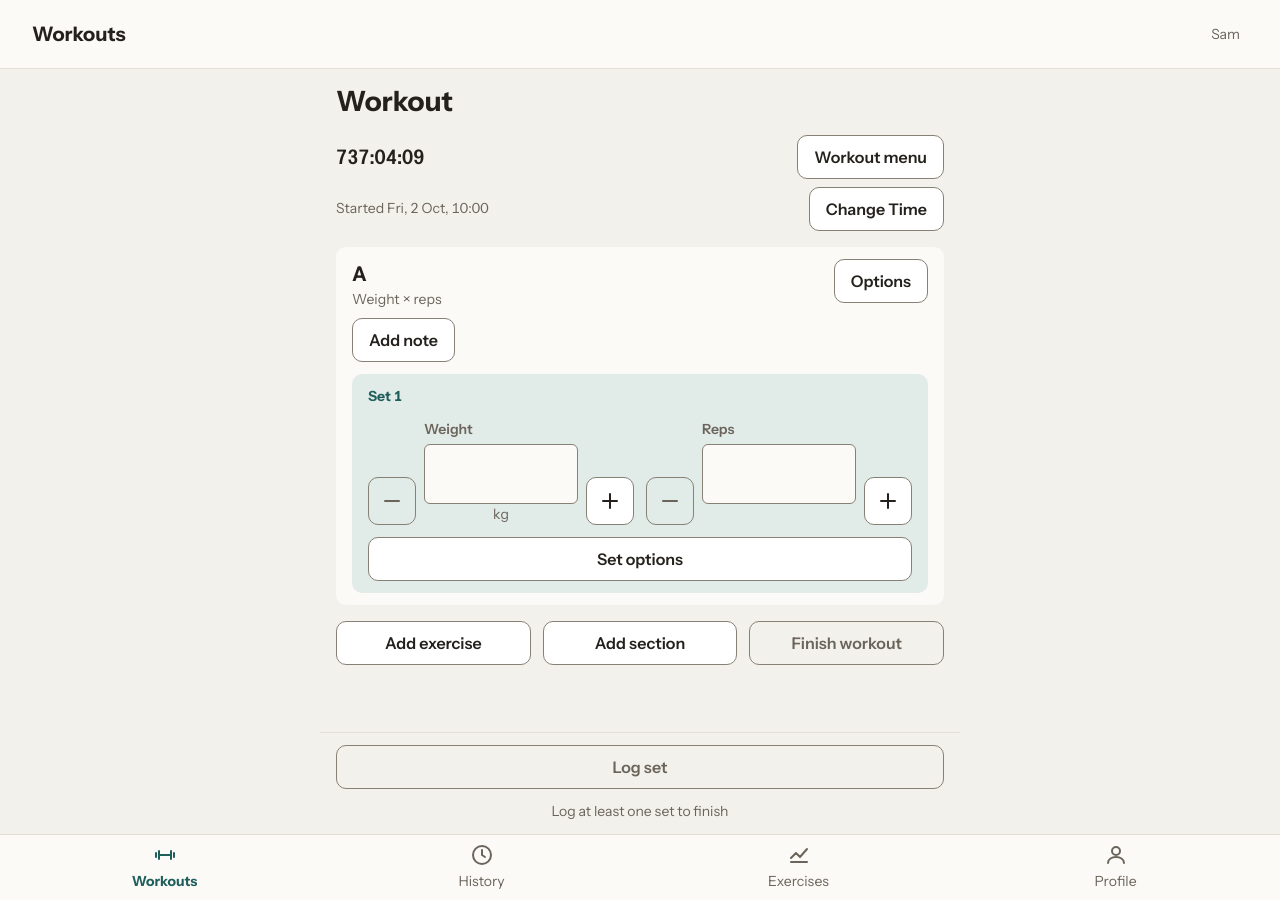
Test case: 17.1 AC13 — adding and removing › a newly added exercise becomes current once it appears
Expected: the heading "Workout" is shown, [336,84,453,118]
Step 1. Click the button "Add exercise" → (433, 643), box [336,621,531,665]
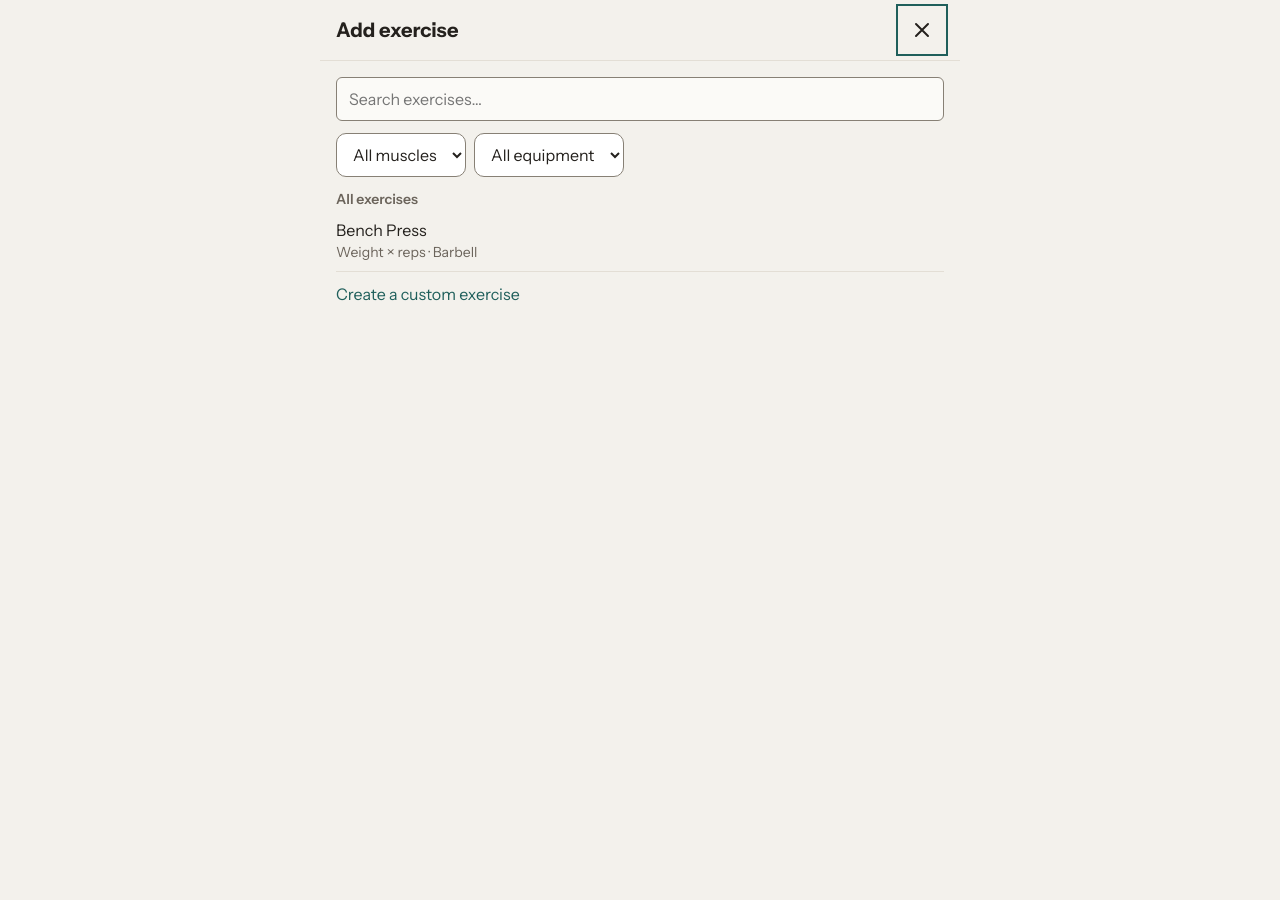
Step 2. Click the button "Bench Press Weight × reps · Barbell" → (381, 230), box [336,210,944,272]
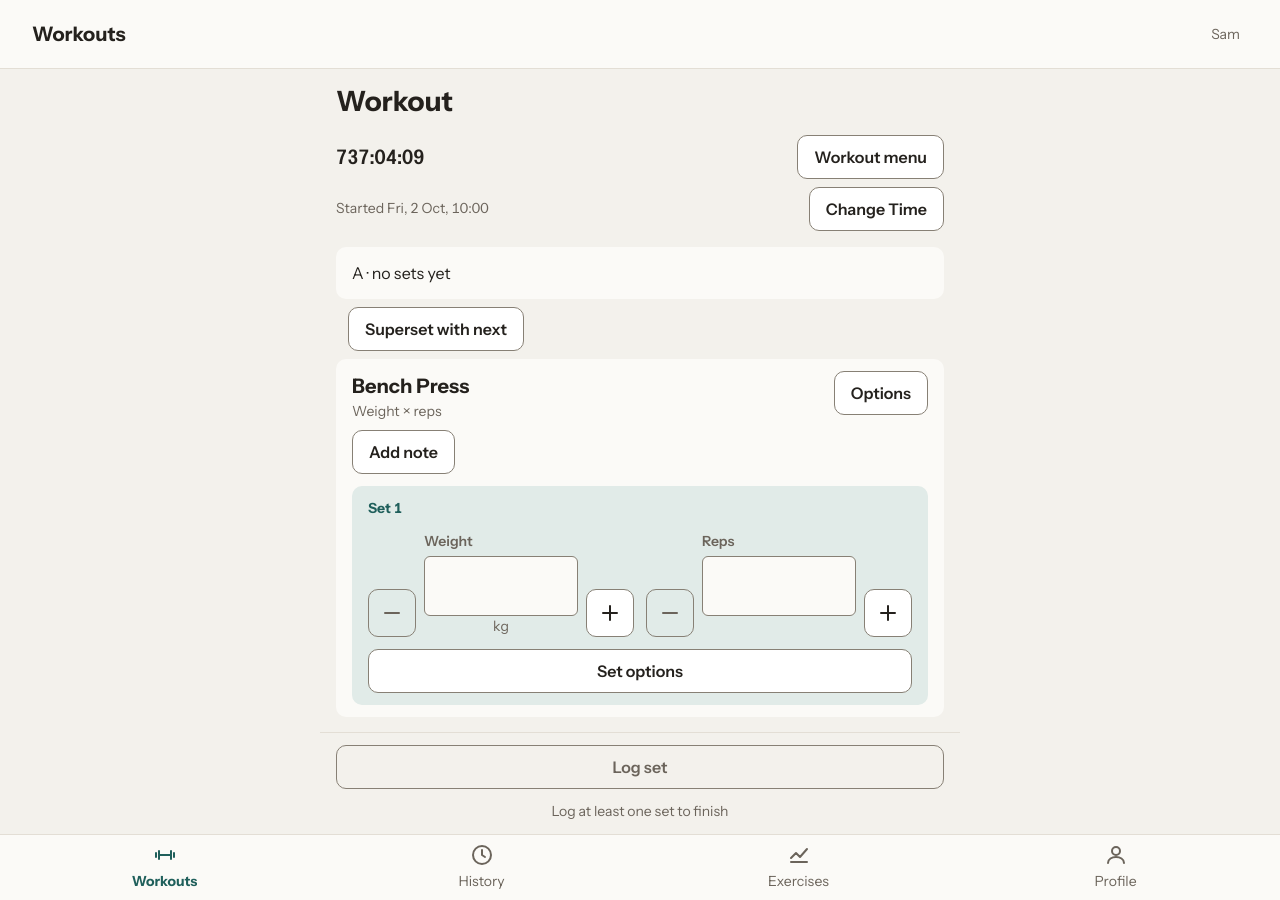
Now the form named "Log a set of Bench Press" is shown, box [352,486,928,705]
